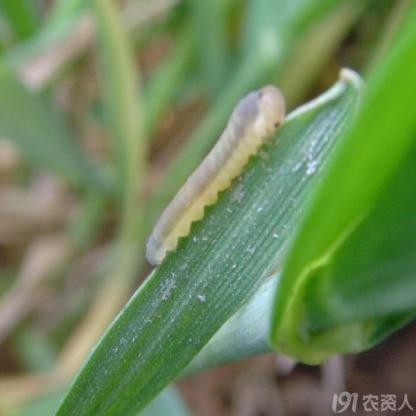sawfly: (144, 81, 286, 278)
